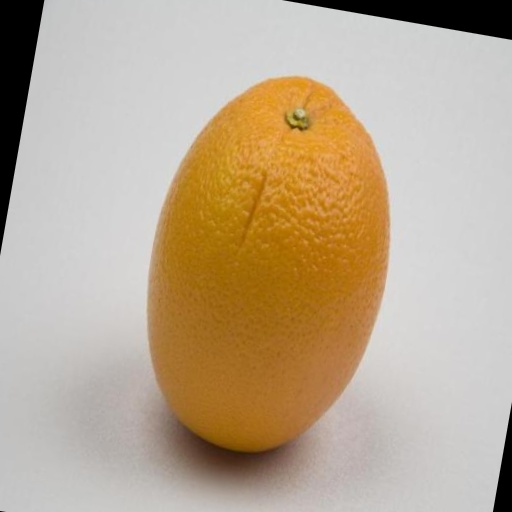fruit: (148, 77, 389, 452)
